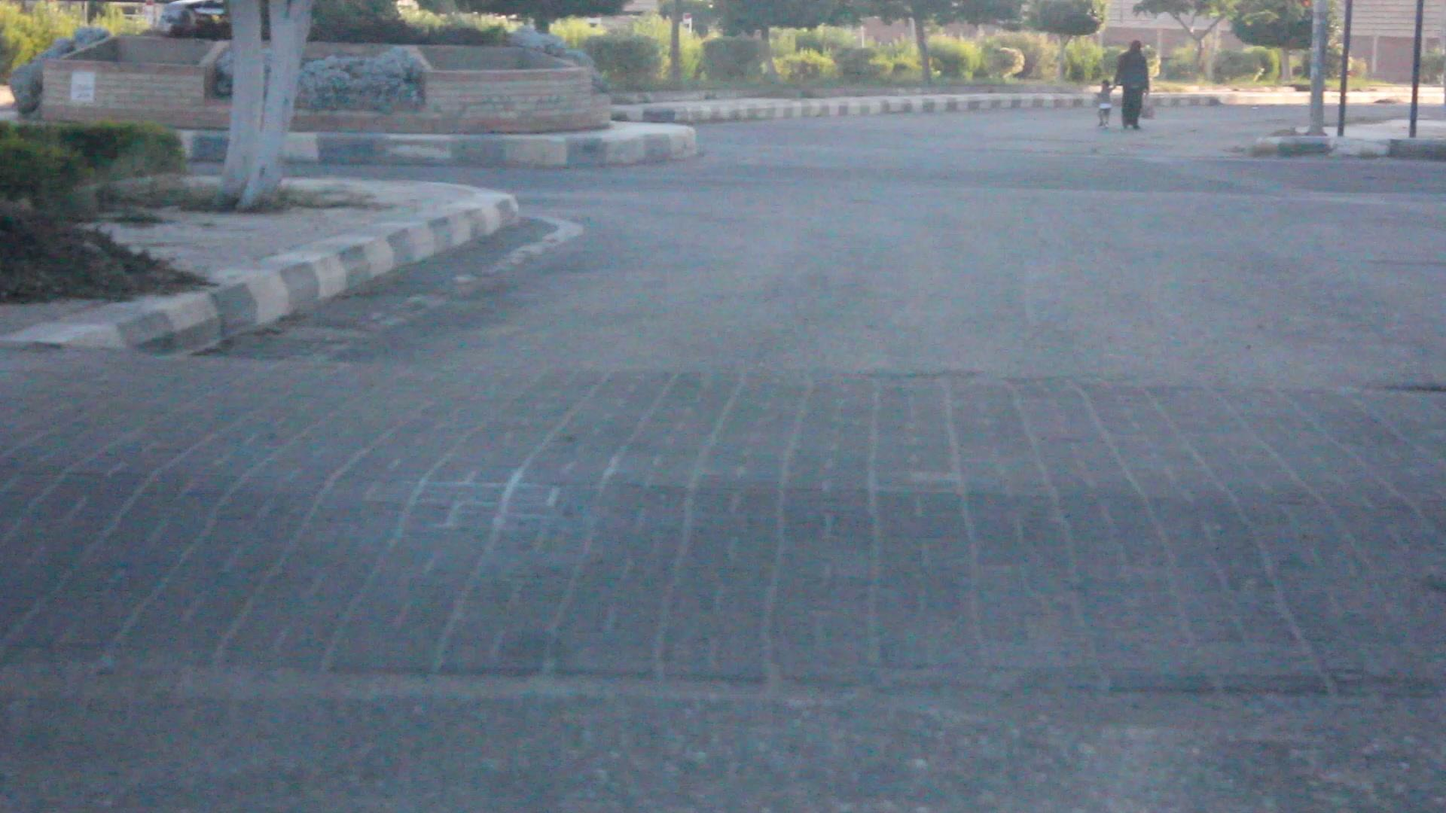Bump: (0, 339, 1445, 710)
